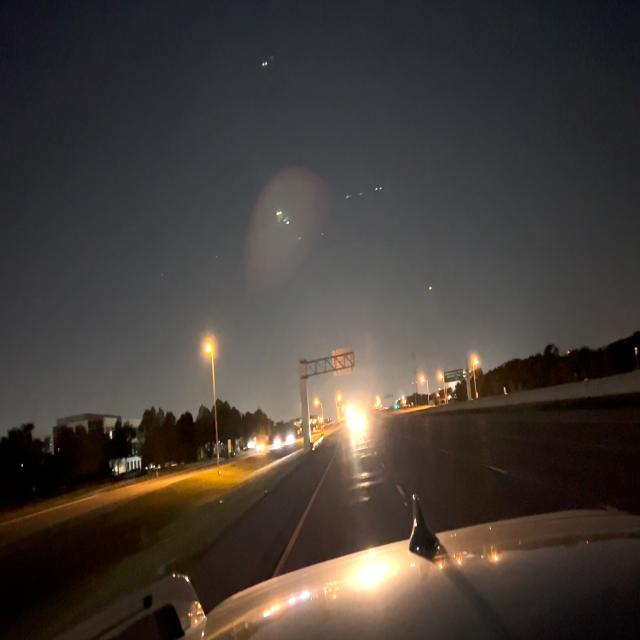back-of-sign: (333, 349, 356, 379)
